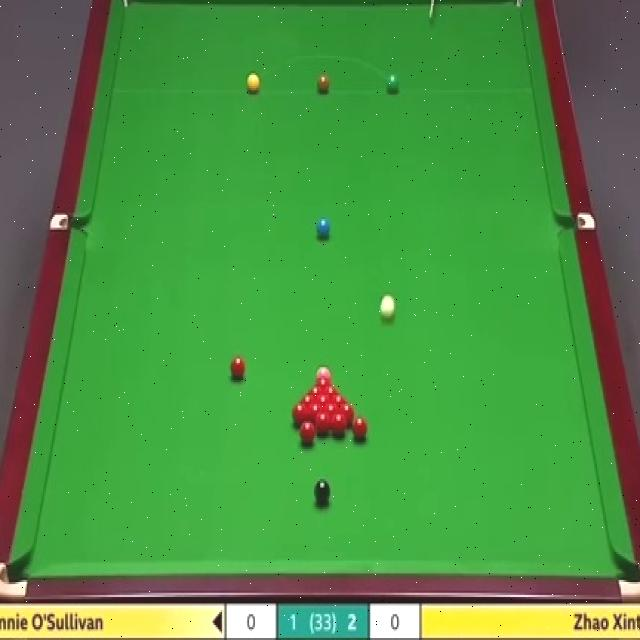black-ball: (314, 478, 331, 506)
blue-ball: (316, 217, 330, 236)
brown-ball: (316, 75, 330, 93)
green-ball: (386, 71, 400, 96)
pink-ball: (316, 366, 332, 384)
red-ball: (292, 402, 310, 428), (352, 416, 369, 442), (332, 412, 348, 439), (299, 419, 316, 442), (232, 355, 246, 382), (316, 411, 331, 434), (322, 404, 340, 423), (338, 403, 355, 423), (330, 392, 348, 408), (300, 392, 317, 407), (316, 392, 331, 409), (310, 404, 322, 425), (323, 382, 337, 399), (309, 384, 324, 398)
white-ball: (381, 294, 396, 316)
yellow-ball: (245, 72, 261, 94)
